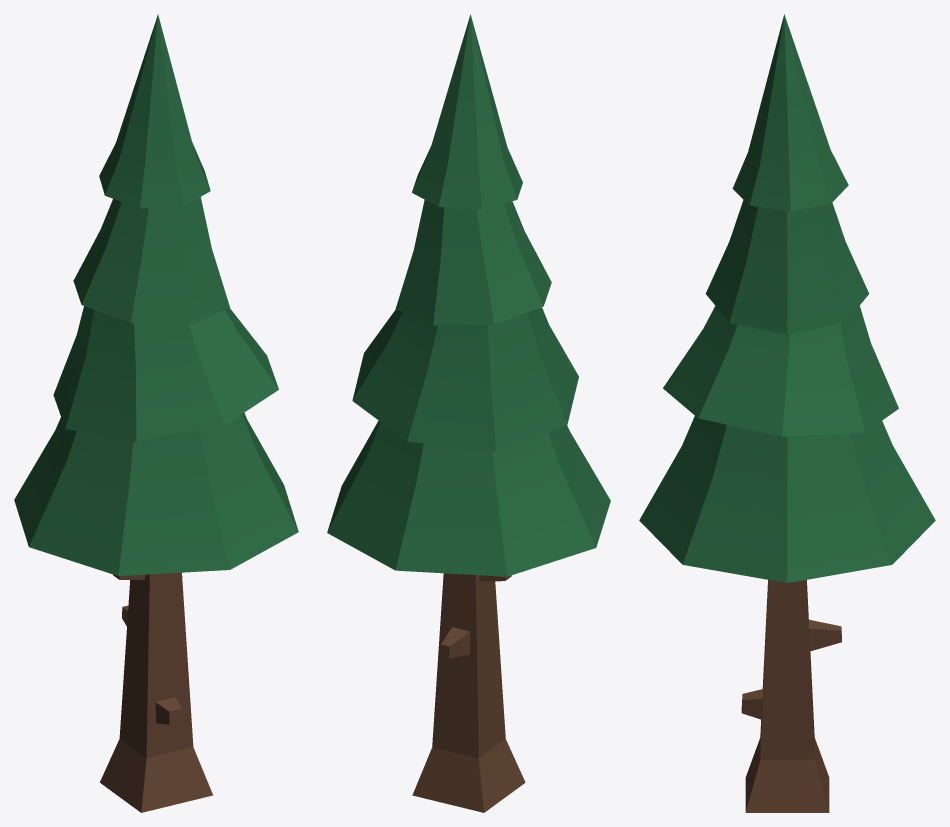
File: tree_pineDefaultB.glb
The picture shows the model from 3 angles, left to right: view 1: azimuth 30°, elevation 25°; view 2: azimuth 150°, elevation 25°; view 3: azimuth 270°, elevation 25°; orthographic projection.
Visible parts, largest first — view 1: tree_pineDefaultB; view 2: tree_pineDefaultB; view 3: tree_pineDefaultB.
Part boxes in pixels (x1,y1,x2,y2): tree_pineDefaultB: [14, 14, 298, 812]; tree_pineDefaultB: [327, 14, 610, 812]; tree_pineDefaultB: [639, 14, 935, 812].
Bounding box in the file's own units: 0.532 × 1.55 × 0.532.
